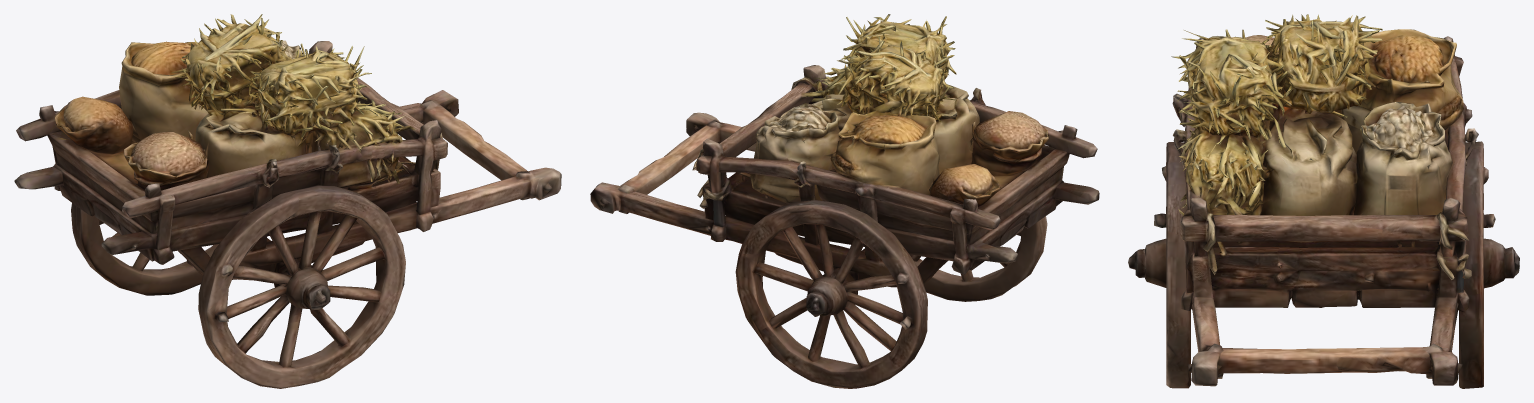
The model's file is haycart-high.glb.
3 views of the same model, side by side, from view 1: azimuth 30°, elevation 25°; view 2: azimuth 150°, elevation 25°; view 3: azimuth 270°, elevation 25° (orthographic). The views are drawn at different scales.
Bounding box in the file's own units: 0.9995 × 0.6804 × 0.6603.
Materials: 1 (1 with a texture image).
